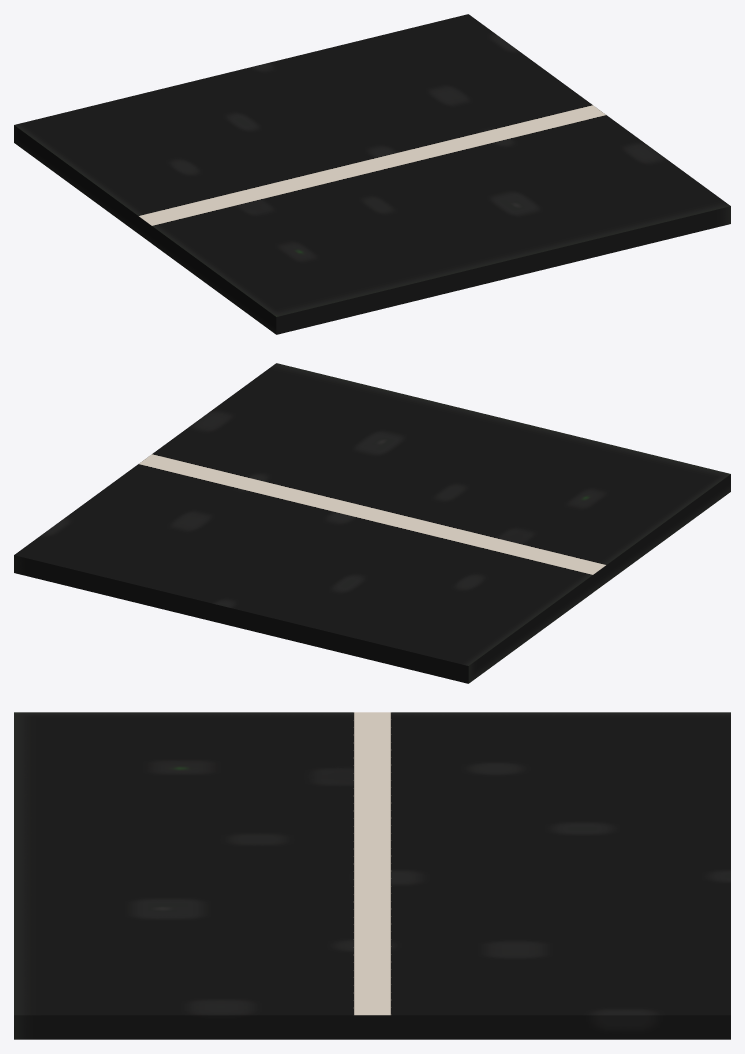
The model's file is parking_8x8_00.glb.
3 views of the same model, one above another, from view 1: azimuth 30°, elevation 25°; view 2: azimuth 150°, elevation 25°; view 3: azimuth 270°, elevation 25° (orthographic). The views are drawn at different scales.
Parts seen in each view (by area): view 1: parking_8x8_00; view 2: parking_8x8_00; view 3: parking_8x8_00.
Part boxes in pixels (left/top/right/bottom): parking_8x8_00: left=14, top=14, right=730, bottom=334; parking_8x8_00: left=14, top=363, right=730, bottom=683; parking_8x8_00: left=14, top=712, right=730, bottom=1039.
Size of what is drawn, in the model's own units: 8 by 0.3 by 8.
1 material, 1 textured.
